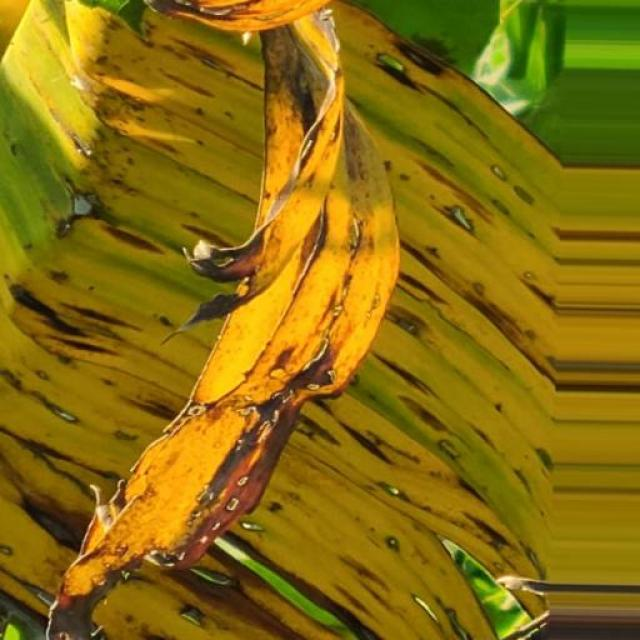Cordana: (2, 1, 586, 640)
